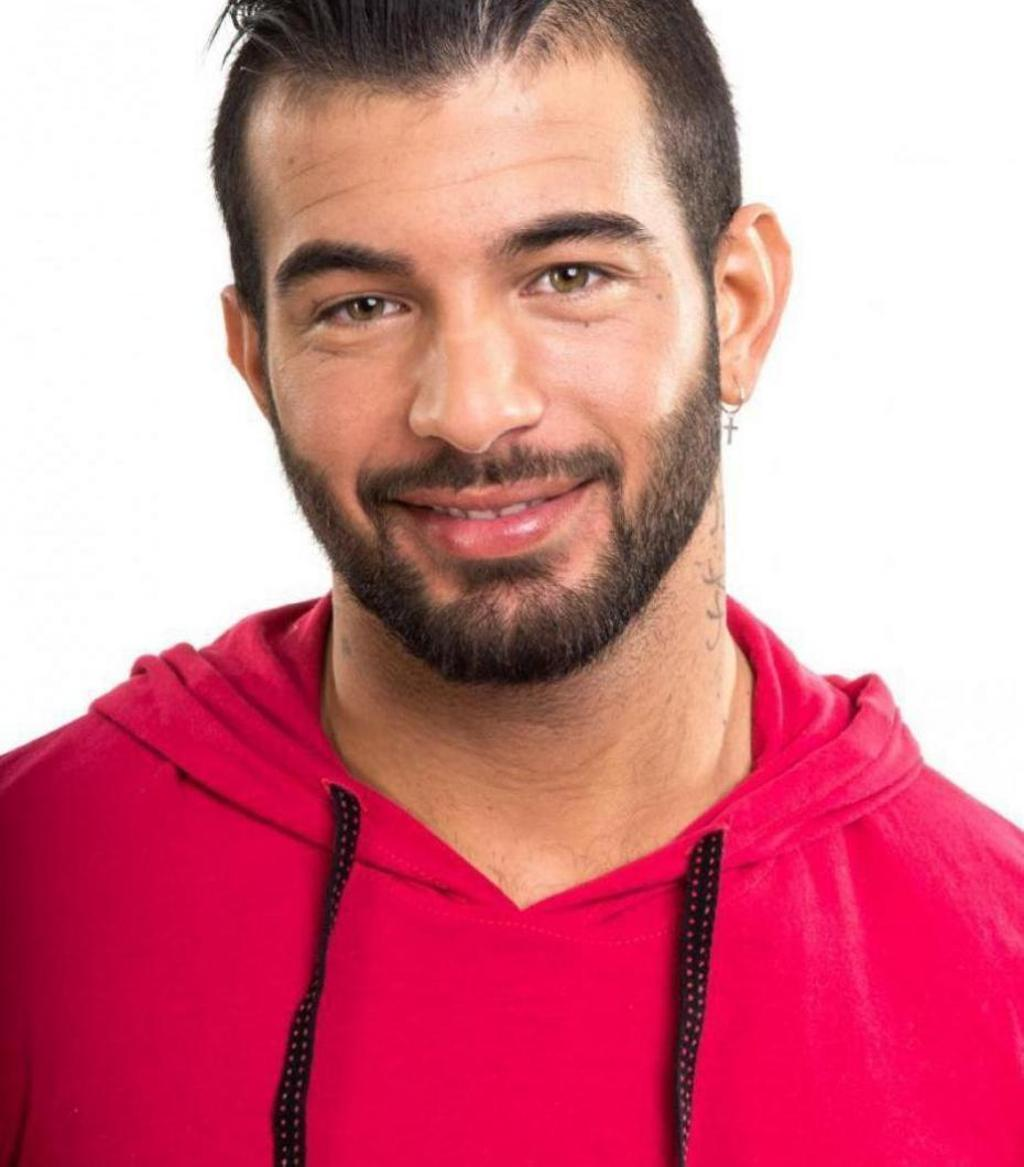face: (248, 75, 726, 687)
